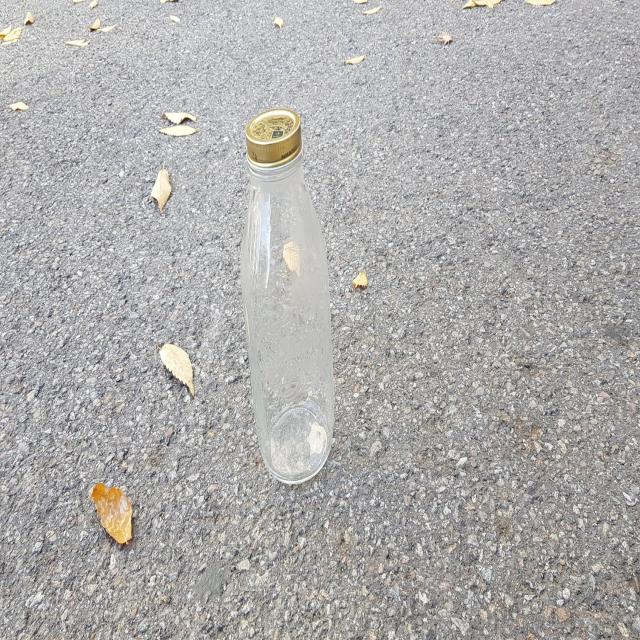glass: (241, 107, 335, 484)
